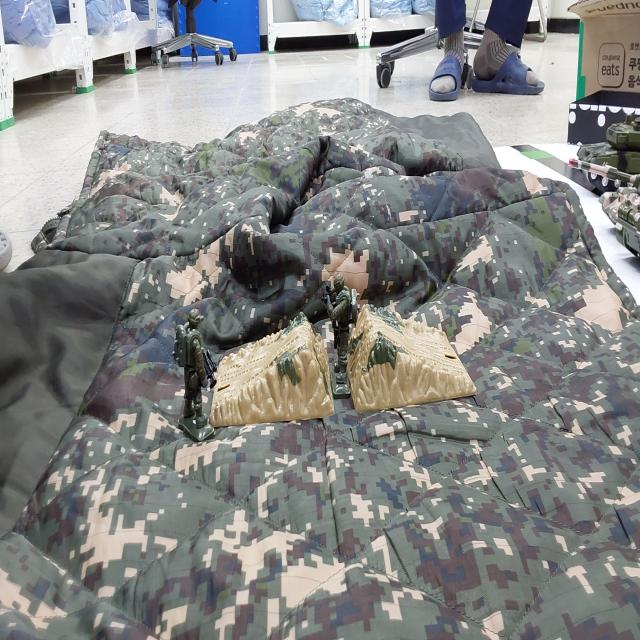enem: (174, 309, 217, 441), (322, 274, 359, 398)
